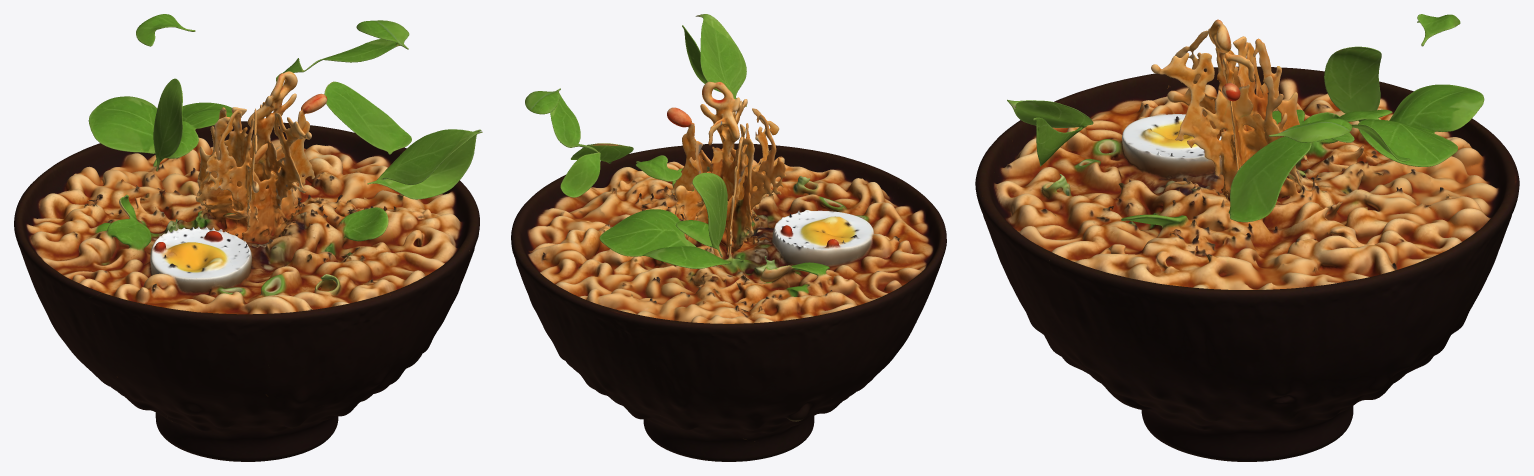
Rendered from maggi.glb.
The picture shows the model from 3 angles, left to right: view 1: azimuth 30°, elevation 25°; view 2: azimuth 150°, elevation 25°; view 3: azimuth 270°, elevation 25°; orthographic projection. The views are drawn at different scales.
Size of the model in its own units: 1.89 by 1.59 by 1.9.
1 material, 1 textured.
